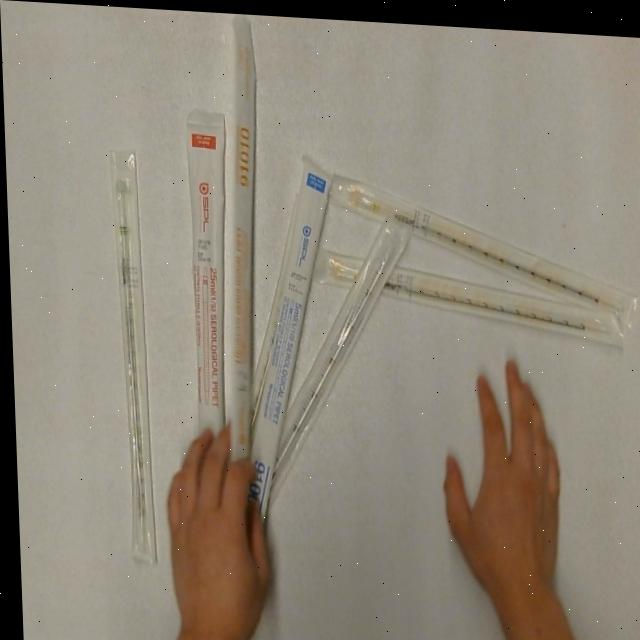Serelogical Pipet 1 mL: (321, 154, 640, 321), (317, 239, 635, 344)
Serelogical Pipet 10 mL: (212, 11, 269, 465)
Serelogical Pipet 2 mL: (107, 141, 156, 570)
Serelogical Pipet 25 mL: (181, 104, 237, 438)
Serelogical Pipet 5 mL: (231, 143, 344, 521)
